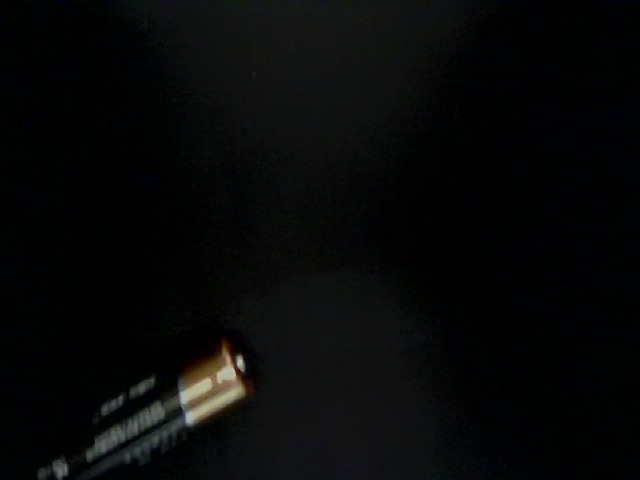QTLJ: (345, 236, 513, 434)
